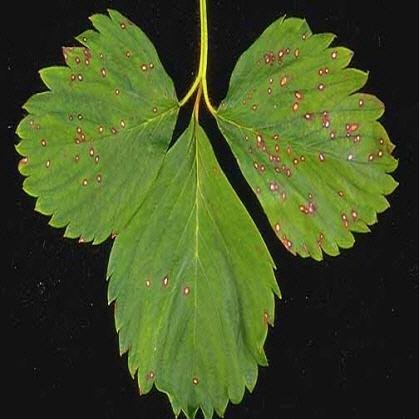Leaf Spot: (105, 108, 282, 418), (215, 13, 401, 262), (12, 8, 180, 244)
